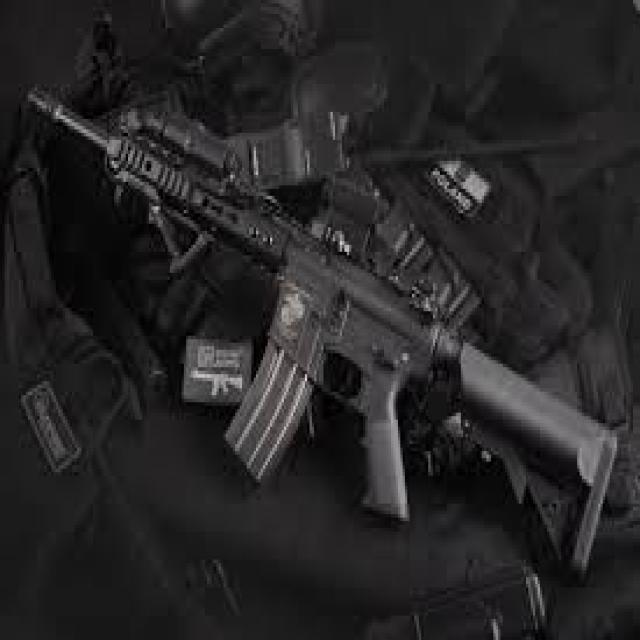gun: (25, 42, 640, 552)
